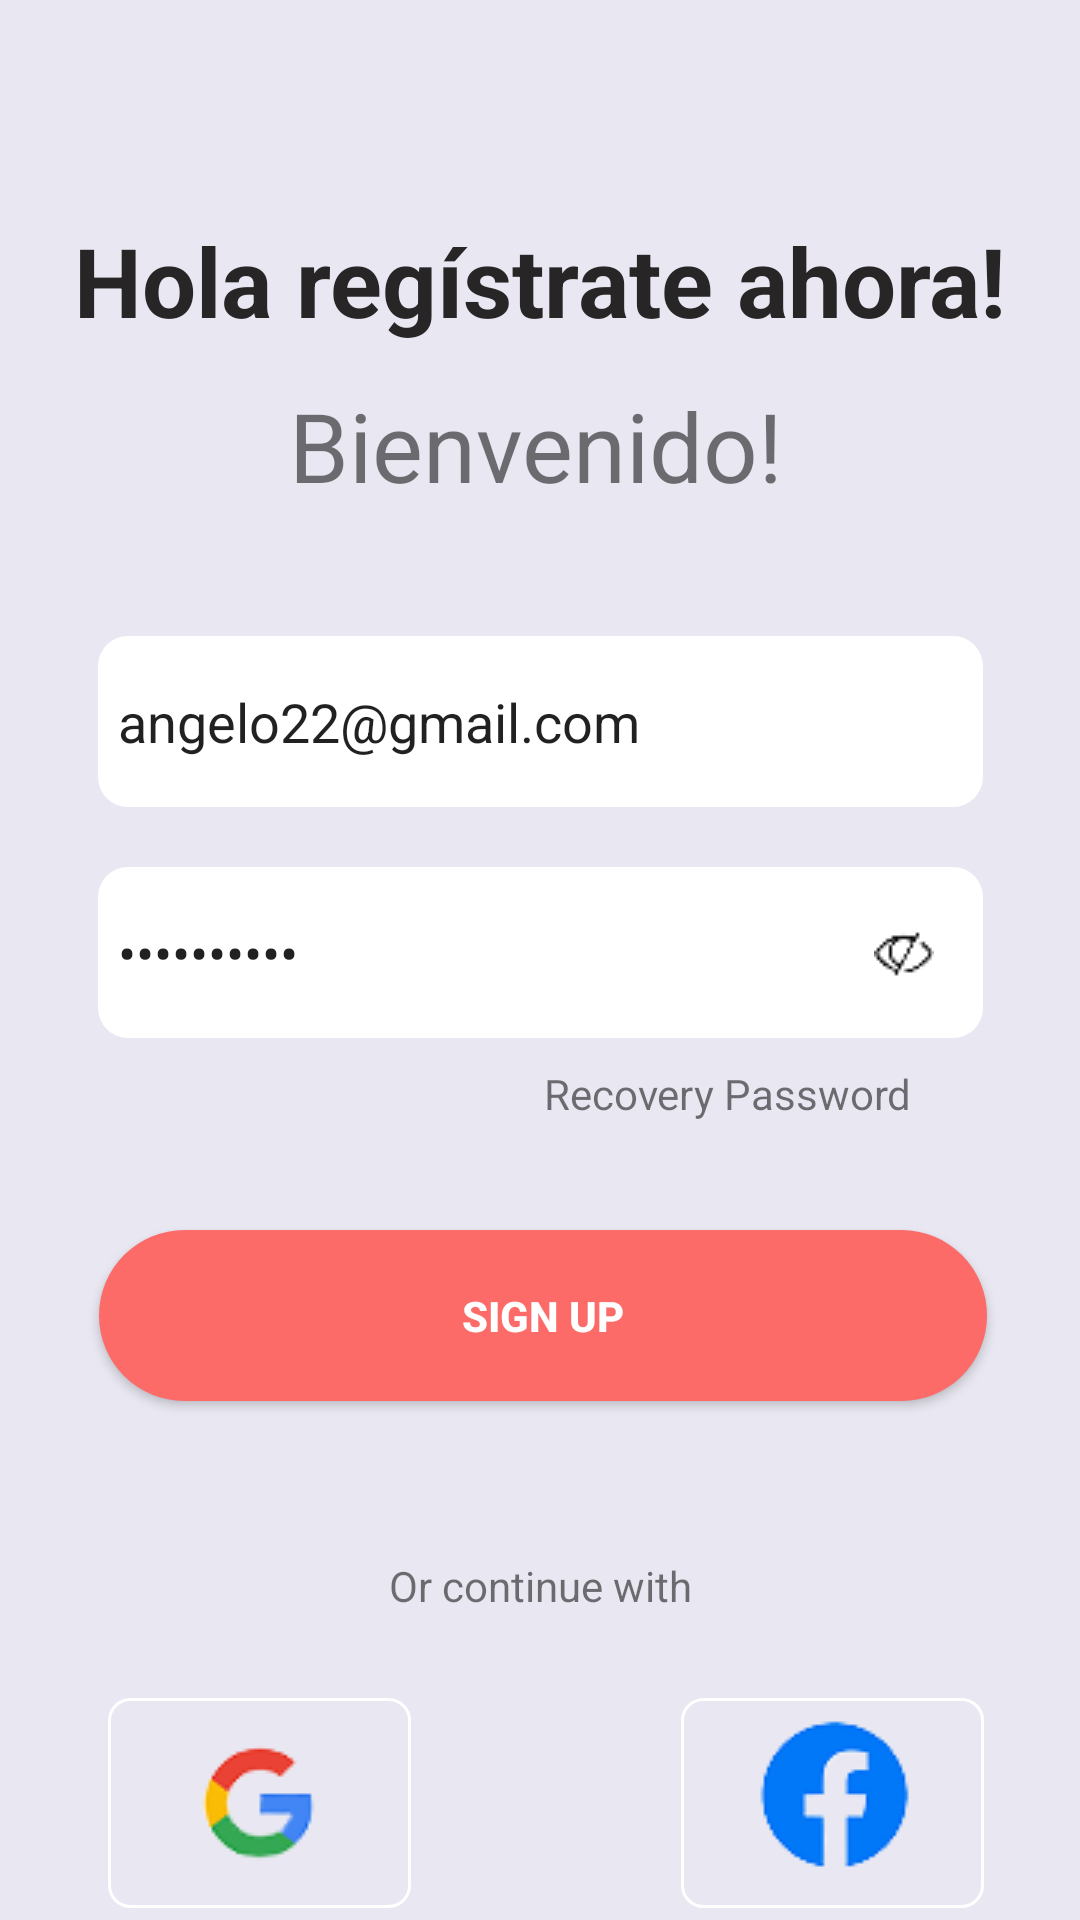

Icon click points for this 1080px x 1920px phone screenshot, format (x,y):
eye: (904,954)
